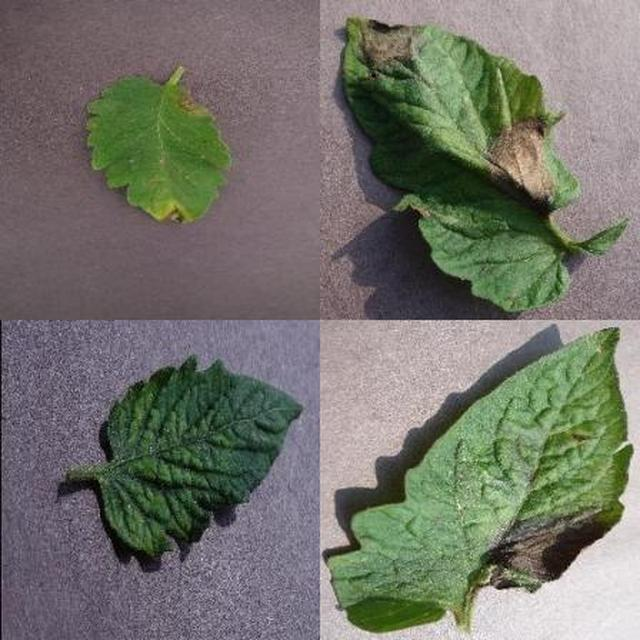Late Blight Leaf: (210, 216, 640, 640)
